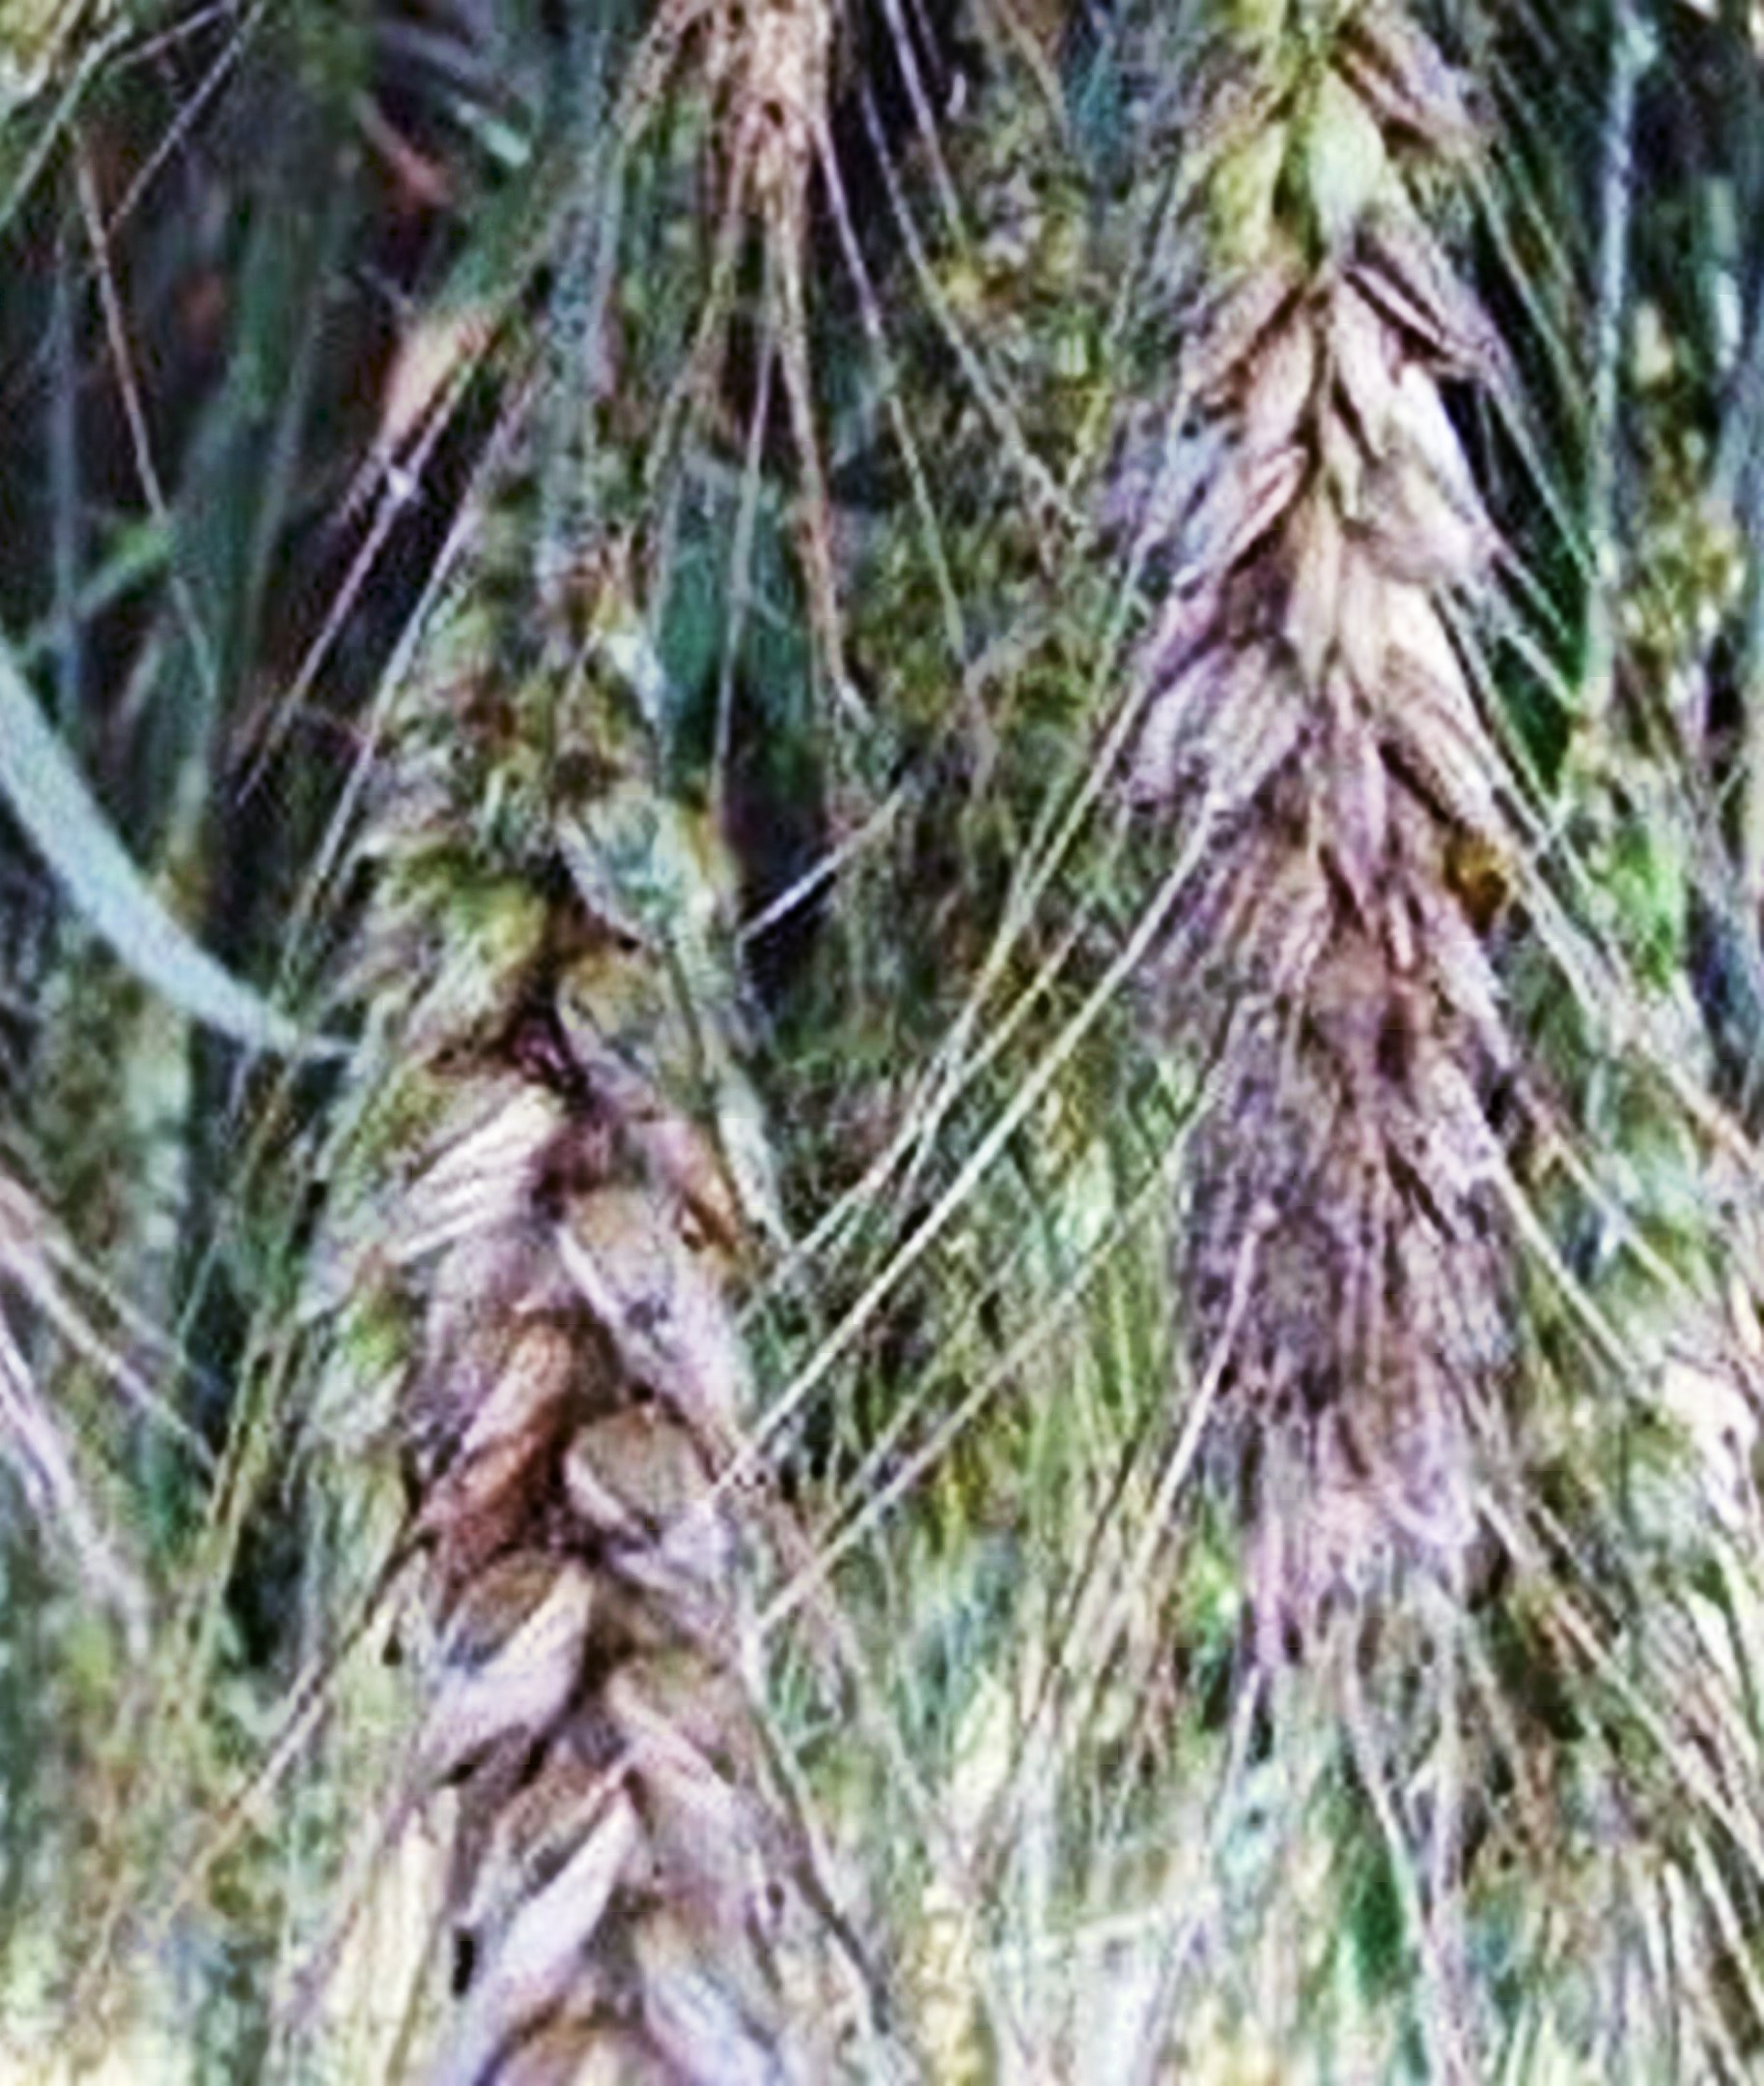Wheat scab: (278, 361, 842, 2023), (1060, 2, 1535, 1048)
